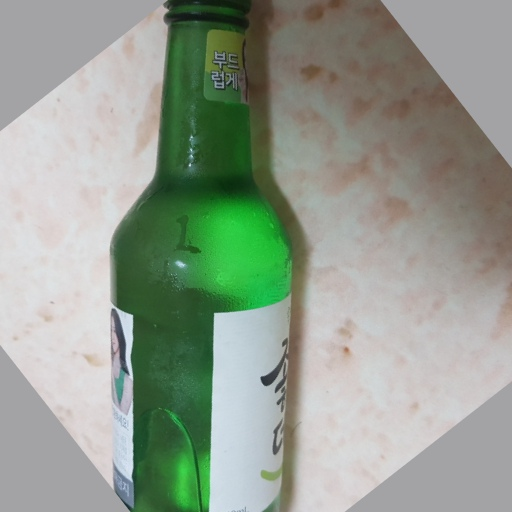Glass_0: (103, 1, 298, 512)
